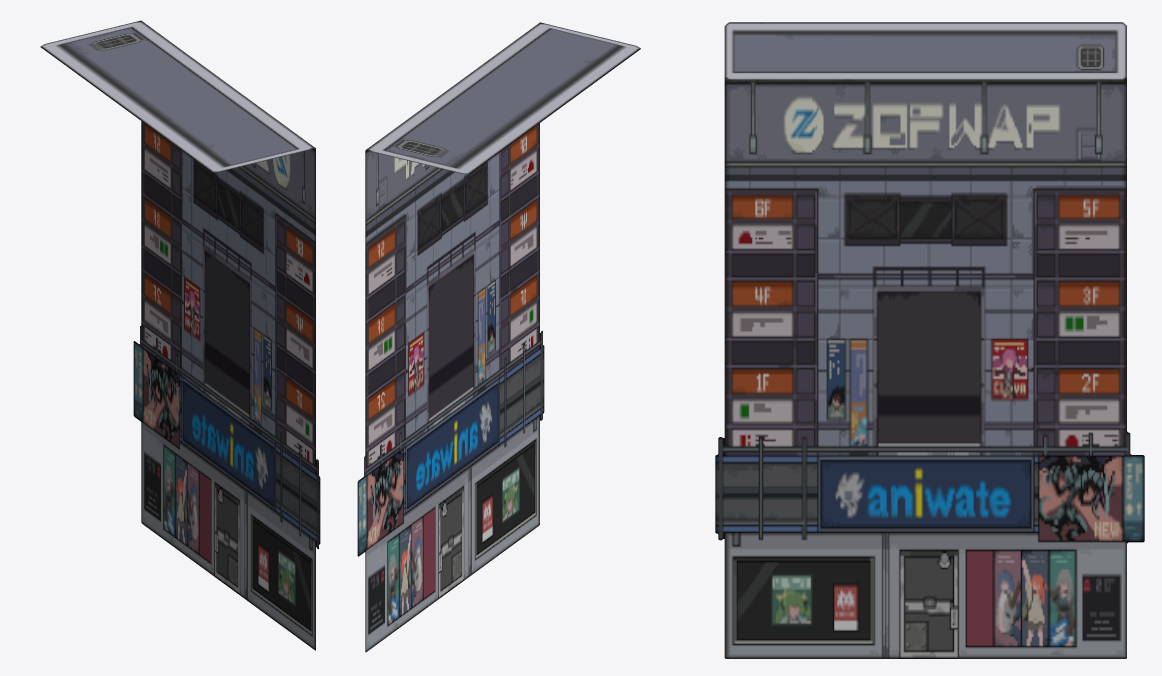
The model's file is Zofwap.fbx.
The picture shows the model from 3 angles, left to right: view 1: azimuth 30°, elevation 25°; view 2: azimuth 150°, elevation 25°; view 3: azimuth 270°, elevation 25°; orthographic projection. The views are drawn at different scales.
Parts seen in each view (by area): view 1: zofwap; view 2: zofwap; view 3: zofwap.
Part boxes in pixels (x1,y1,x2,y2): zofwap: (40,20,320,650); zofwap: (357,22,640,652); zofwap: (715,22,1144,658).
Bounding box in the file's own units: 108 × 441 × 309.
1 material, 1 textured.
